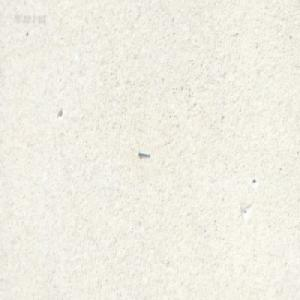Nail: (137, 149, 150, 156)
